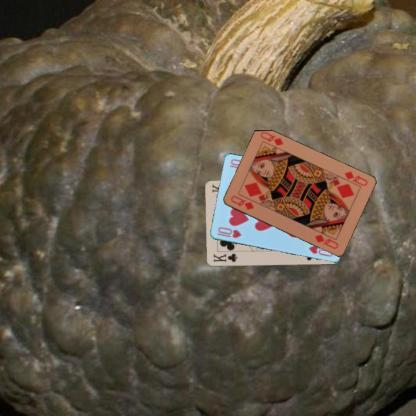10h: (215, 224, 242, 239)
Kc: (211, 251, 238, 263)
Qd: (338, 169, 369, 188), (228, 193, 255, 211)
